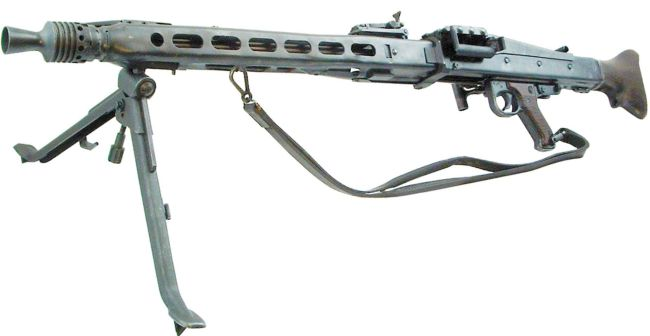rifle: (5, 19, 650, 315)
